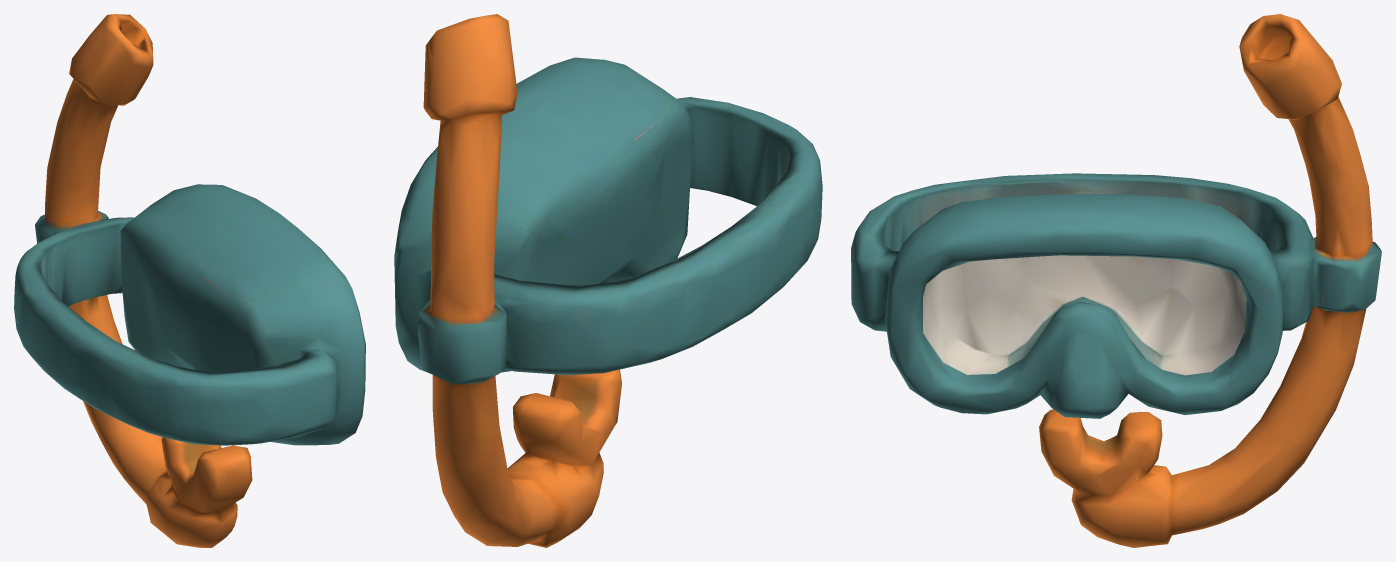
The model's file is x-snorkel.glb.
3 views of the same model, side by side, from view 1: azimuth 30°, elevation 25°; view 2: azimuth 150°, elevation 25°; view 3: azimuth 270°, elevation 25° (orthographic). The views are drawn at different scales.
Visible parts, largest first — view 1: tripo_node_d6bf6f52-fbfa-4d3b-a50d-88731efbbbf9; view 2: tripo_node_d6bf6f52-fbfa-4d3b-a50d-88731efbbbf9; view 3: tripo_node_d6bf6f52-fbfa-4d3b-a50d-88731efbbbf9.
Part boxes in pixels (bbox=[...]): tripo_node_d6bf6f52-fbfa-4d3b-a50d-88731efbbbf9: bbox=[14, 14, 365, 547]; tripo_node_d6bf6f52-fbfa-4d3b-a50d-88731efbbbf9: bbox=[394, 14, 822, 547]; tripo_node_d6bf6f52-fbfa-4d3b-a50d-88731efbbbf9: bbox=[851, 14, 1381, 547].
Size of the model in its own units: 0.5356 by 1 by 0.9199.
1 material, 1 textured.
